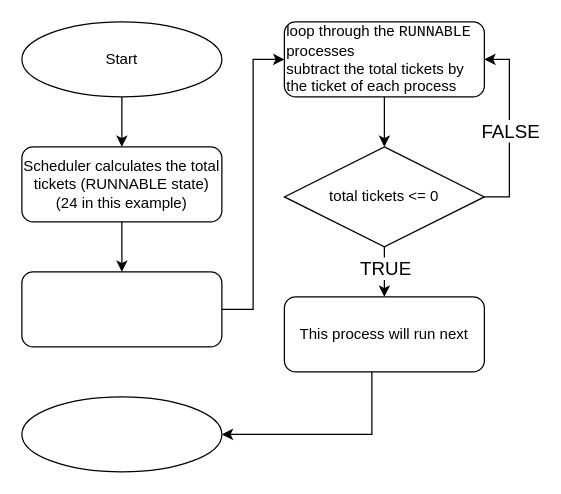
This 561x494 diagram has some shape labels left out. The box of each missing label's shape, as (x1, y1, x2, y2) in pixels:
End: (21, 396, 222, 472)
Generate a random number between 0-24 (11 in this example): (21, 271, 222, 347)
